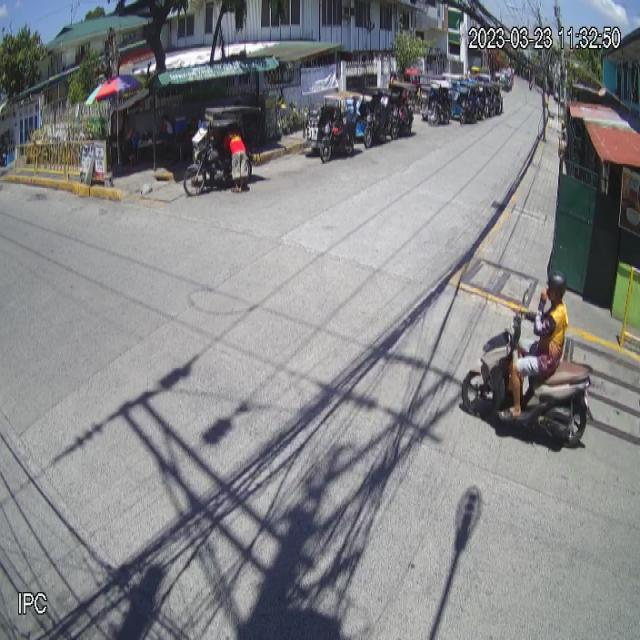Motorcycle: (461, 288, 595, 452)
Tricycle: (182, 104, 262, 200)
